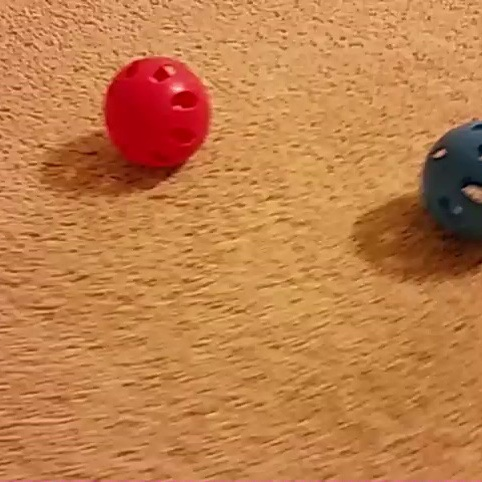blueball: (418, 114, 482, 249)
redball: (100, 52, 216, 172)
